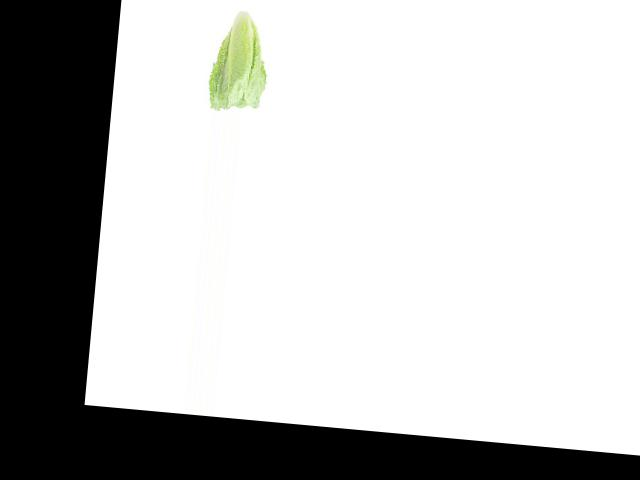lettuce: (201, 6, 276, 115)
